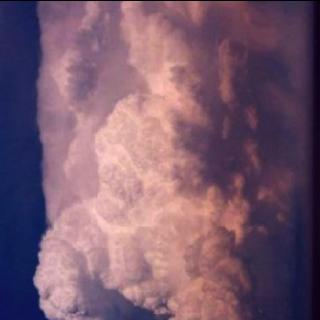Cumulonimbus: (30, 0, 308, 320)
